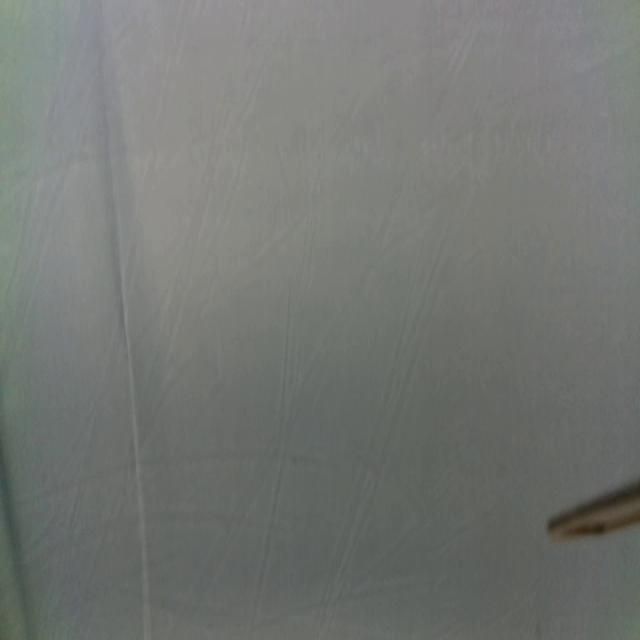crease: (106, 150, 152, 640)
